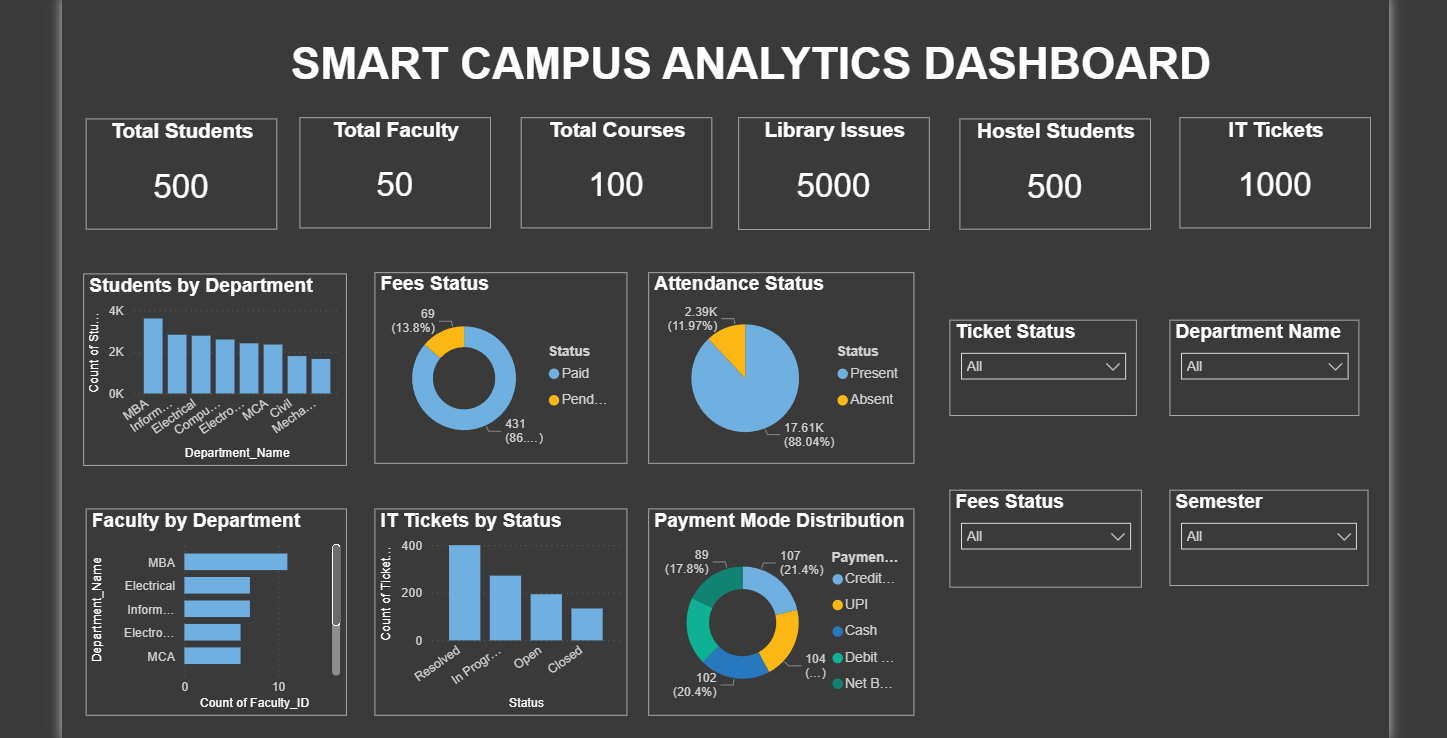

Layout of this report page (visuals, bound fields, positions):
{"tool":"powerbi","page":{"name":"Page 1","canvas":[1280,720],"ordinal":0},"visuals":[{"type":"card","title":"IT Tickets","fields":{"Values":["CountNonNull(IT_Tickets.Ticket_ID)"]},"box":[1078.6,117,184.6,107.4],"z":0},{"type":"card","title":"Hostel Students","fields":{"Values":["CountNonNull(Hostel.Hostel_ID)"]},"box":[866.2,118.2,184.6,107.4],"z":1000},{"type":"card","title":"Library Issues","fields":{"Values":["Count(Library.Issue_ID)"]},"box":[652.7,117,184.6,108.6],"z":2000},{"type":"card","title":"Total Courses","fields":{"Values":["Attendance.Total Courses"]},"box":[442.8,117,184.6,107.4],"z":3000},{"type":"card","title":"Total Faculty","fields":{"Values":["Attendance.Total Faculty"]},"box":[229.2,117,184.6,107.4],"z":4000},{"type":"card","title":"Total Students","fields":{"Values":["Attendance.Total Students"]},"box":[22.9,118.2,184.6,107.4],"z":5000},{"type":"clusteredColumnChart","title":"Students by Department","fields":{"Category":["Departments.Department_Name"],"Y":["CountNonNull(Attendance.Student_ID)"]},"box":[20.5,267.8,254.6,185.8],"z":6000},{"type":"donutChart","title":"Fees Status","fields":{"Category":["Fees.Status"],"Y":["CountNonNull(Fees.Payment_ID)"]},"box":[301.6,266.6,243.7,184.6],"z":7000},{"type":"pieChart","title":"Attendance Status","fields":{"Category":["Attendance.Status"],"Y":["CountNonNull(Attendance.Attendance_ID)"]},"box":[565.8,266.6,257,184.6],"z":8000},{"type":"clusteredBarChart","title":"Faculty by Department","fields":{"Y":["CountNonNull(Faculty.Faculty_ID)"],"Category":["Faculty.Department_Name"]},"box":[22.9,494.6,252.1,200.3],"z":9000},{"type":"columnChart","title":"IT Tickets by Status","fields":{"Category":["IT_Tickets.Status"],"Y":["CountNonNull(IT_Tickets.Ticket_ID)"]},"box":[301.6,494.6,243.7,200.3],"z":10000},{"type":"donutChart","title":"Payment Mode Distribution","fields":{"Y":["CountNonNull(Fees.Payment_ID)"],"Category":["Fees.Payment_Mode"]},"box":[565.8,494.6,257,200.3],"z":11000},{"type":"slicer","title":"Department Name","fields":{"Values":["Departments.Department_Name"]},"box":[1068.9,312.5,183.4,92.9],"z":12000},{"type":"slicer","title":"Ticket Status","fields":{"Values":["IT_Tickets.Status"]},"box":[856.6,312.5,181,92.9],"z":13000},{"type":"slicer","title":"Fees Status","fields":{"Values":["Fees.Status"]},"box":[856.6,476.5,185.8,94.1],"z":14000},{"type":"slicer","title":"Semester","fields":{"Values":["Courses.Semester"]},"box":[1068.9,476.5,191.8,92.9],"z":15000},{"type":"textbox","box":[216.4,36.7,904.9,74.6],"z":17000}]}

Visuals, with their boxes on the page's 1280x720 design canvas (x1, y1, x2, y2). These are canvas units, not pixel positions in the 1447x738 screenshot, which may show the page scaled, cropped or inside an application window:
"IT Tickets" card: bbox=[1079, 117, 1263, 224]
"Hostel Students" card: bbox=[866, 118, 1051, 226]
"Library Issues" card: bbox=[653, 117, 837, 226]
"Total Courses" card: bbox=[443, 117, 627, 224]
"Total Faculty" card: bbox=[229, 117, 414, 224]
"Total Students" card: bbox=[23, 118, 208, 226]
"Students by Department" clusteredColumnChart: bbox=[20, 268, 275, 454]
"Fees Status" donutChart: bbox=[302, 267, 545, 451]
"Attendance Status" pieChart: bbox=[566, 267, 823, 451]
"Faculty by Department" clusteredBarChart: bbox=[23, 495, 275, 695]
"IT Tickets by Status" columnChart: bbox=[302, 495, 545, 695]
"Payment Mode Distribution" donutChart: bbox=[566, 495, 823, 695]
"Department Name" slicer: bbox=[1069, 312, 1252, 405]
"Ticket Status" slicer: bbox=[857, 312, 1038, 405]
"Fees Status" slicer: bbox=[857, 476, 1042, 571]
"Semester" slicer: bbox=[1069, 476, 1261, 569]
textbox: bbox=[216, 37, 1121, 111]
